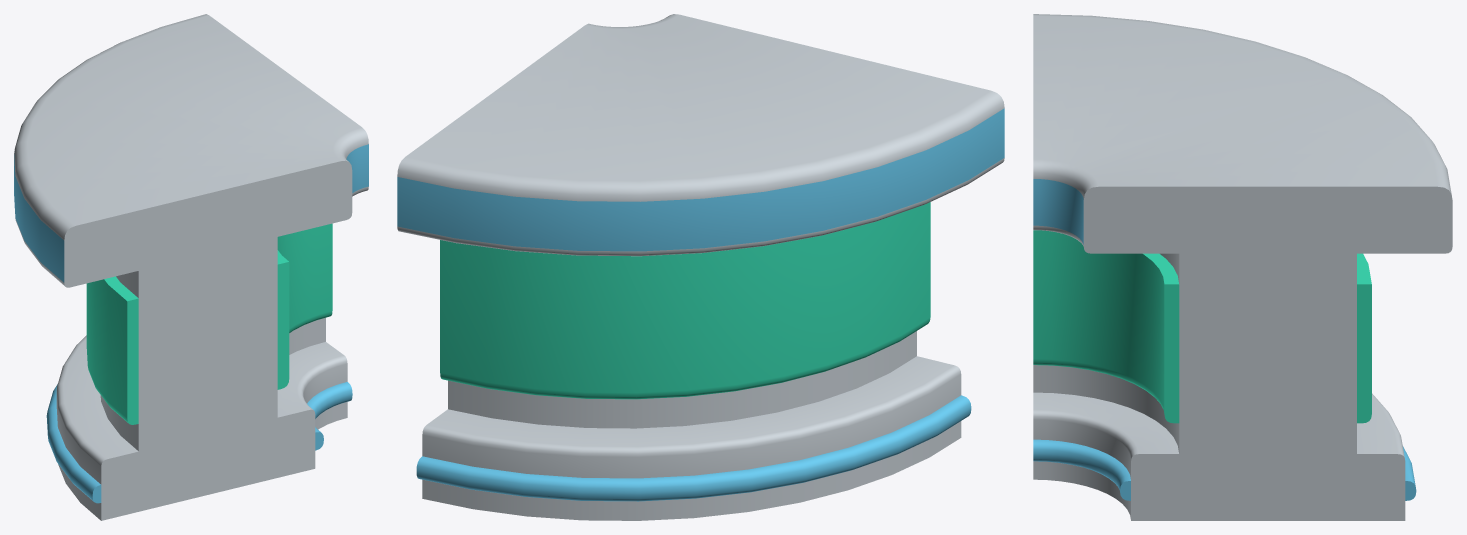
Rendered from Kitchen_Counter_Corner_V1.fbx.
3 renders of one model, left to right at view 1: azimuth 30°, elevation 25°; view 2: azimuth 150°, elevation 25°; view 3: azimuth 270°, elevation 25°, orthographic. The views are drawn at different scales.
Parts seen in each view (by area): view 1: Counter_Middle_Corner_V1; view 2: Counter_Middle_Corner_V1; view 3: Counter_Middle_Corner_V1.
Boxes of the visible parts, left/top/right/bottom form: Counter_Middle_Corner_V1: left=14, top=14, right=368, bottom=520; Counter_Middle_Corner_V1: left=397, top=14, right=1004, bottom=520; Counter_Middle_Corner_V1: left=1033, top=14, right=1452, bottom=520.
Size of the model in its own units: 114 by 100 by 114.
